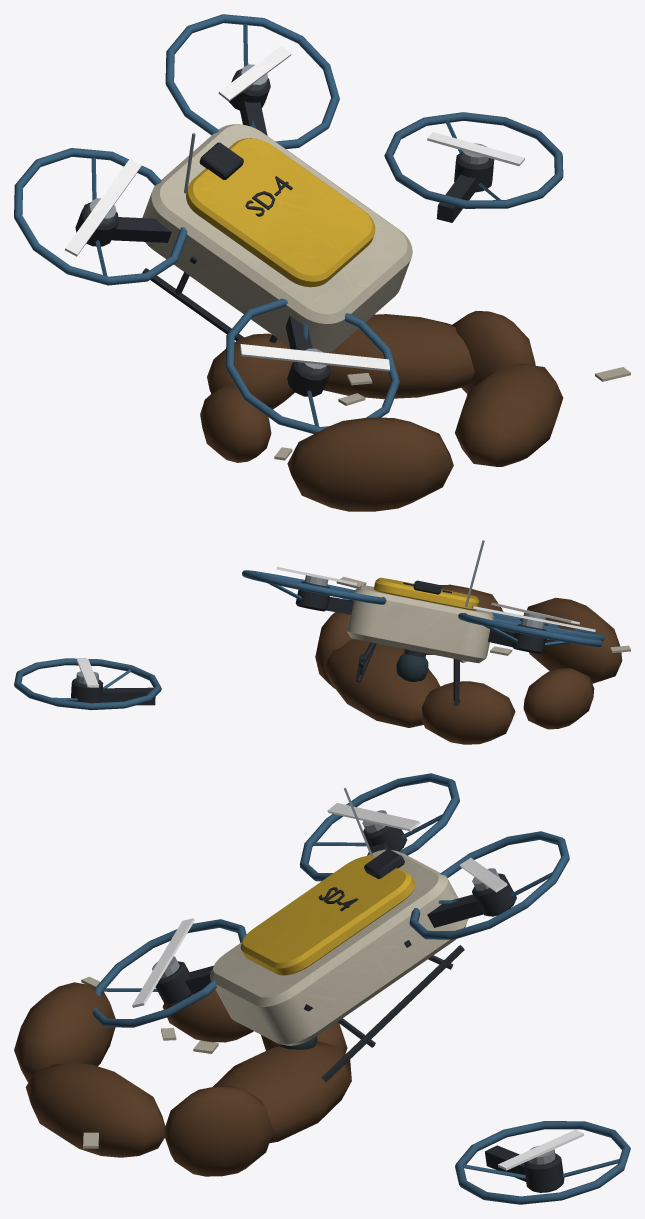
Rendered from survey_drone_crashed.glb.
3 views of the same model, one above another, from view 1: azimuth 30°, elevation 25°; view 2: azimuth 150°, elevation 25°; view 3: azimuth 270°, elevation 25° (orthographic). The views are drawn at different scales.
Parts seen in each view (by area): view 1: survey_drone_crashed; view 2: survey_drone_crashed; view 3: survey_drone_crashed.
Part boxes in pixels (<box>): survey_drone_crashed: <box>14,14,630,511</box>; survey_drone_crashed: <box>14,540,630,744</box>; survey_drone_crashed: <box>14,773,630,1204</box>.
Bounding box in the file's own units: 2.53 × 1.11 × 2.25.
Materials: 9 (9 with a texture image).
